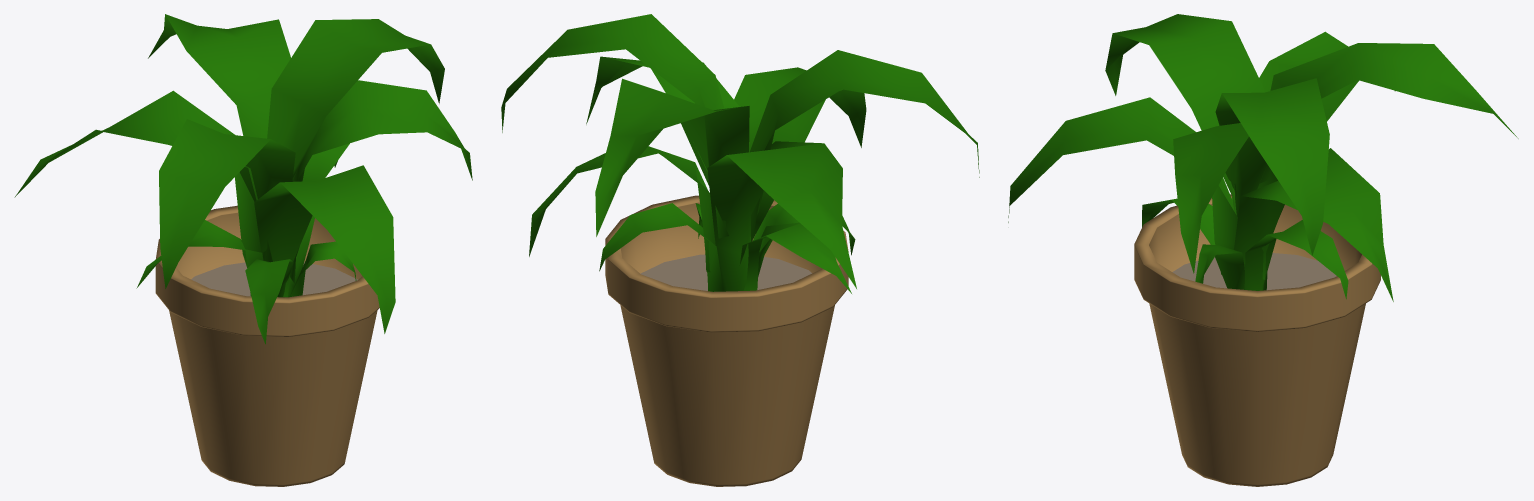
The model's file is plant.dae.
3 views of the same model, side by side, from view 1: azimuth 30°, elevation 25°; view 2: azimuth 150°, elevation 25°; view 3: azimuth 270°, elevation 25° (orthographic). The views are drawn at different scales.
Parts seen in each view (by area): view 1: leaf, maceta; view 2: leaf, maceta; view 3: leaf, maceta.
Part boxes in pixels (box(x1,y1,x2,y2)): leaf: box(14, 14, 472, 344); maceta: box(155, 205, 379, 486); leaf: box(501, 14, 979, 293); maceta: box(605, 195, 848, 486); leaf: box(1008, 14, 1518, 301); maceta: box(1134, 194, 1380, 486).
Bounding box in the file's own units: 0.5977 × 0.6643 × 0.5901.
